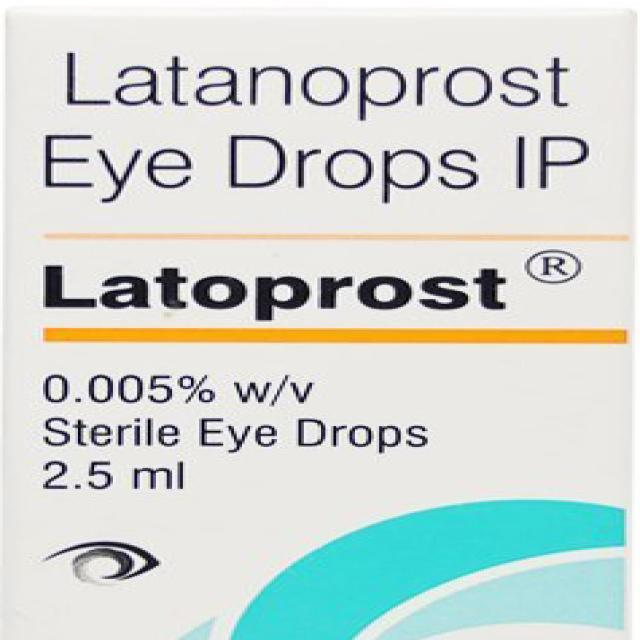drug-name: (39, 255, 510, 326)
